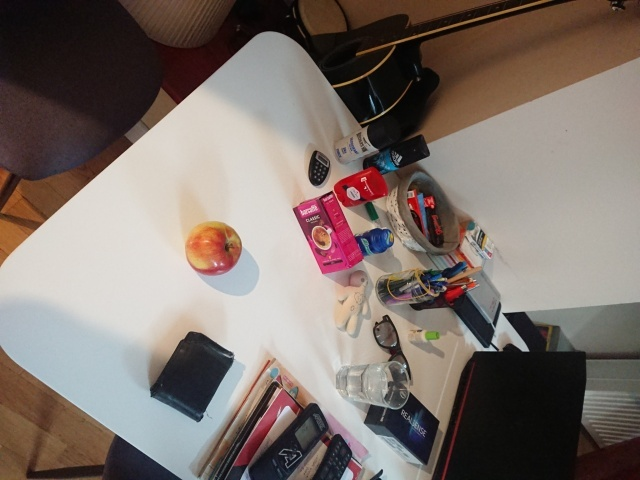Barcaffe Classic Original 225g: (291, 187, 366, 276)
